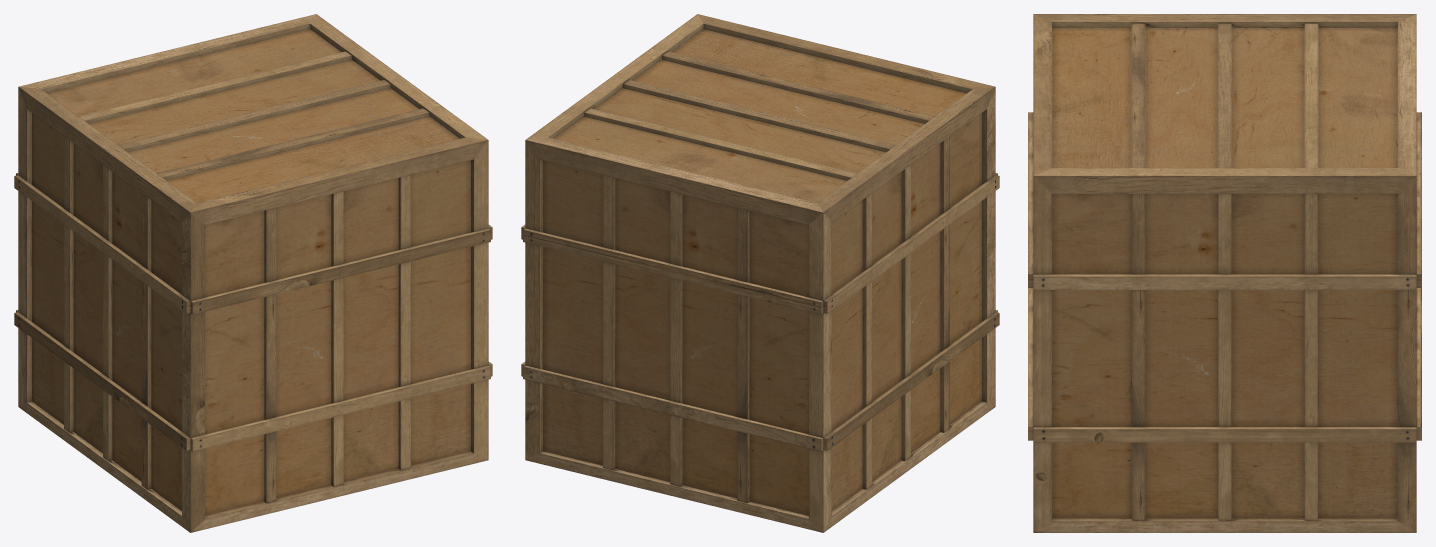
File: wall.glb
The picture shows the model from 3 angles, left to right: view 1: azimuth 30°, elevation 25°; view 2: azimuth 150°, elevation 25°; view 3: azimuth 270°, elevation 25°; orthographic projection. The views are drawn at different scales.
Parts seen in each view (by area): view 1: Box_box_0; view 2: Box_box_0; view 3: Box_box_0.
Boxes of the visible parts, <box> form: Box_box_0: <box>14,14,492,532</box>; Box_box_0: <box>521,14,999,532</box>; Box_box_0: <box>1028,14,1421,532</box>.
Size of the model in its own units: 1 by 1 by 1.
Materials: 1 (1 with a texture image).
